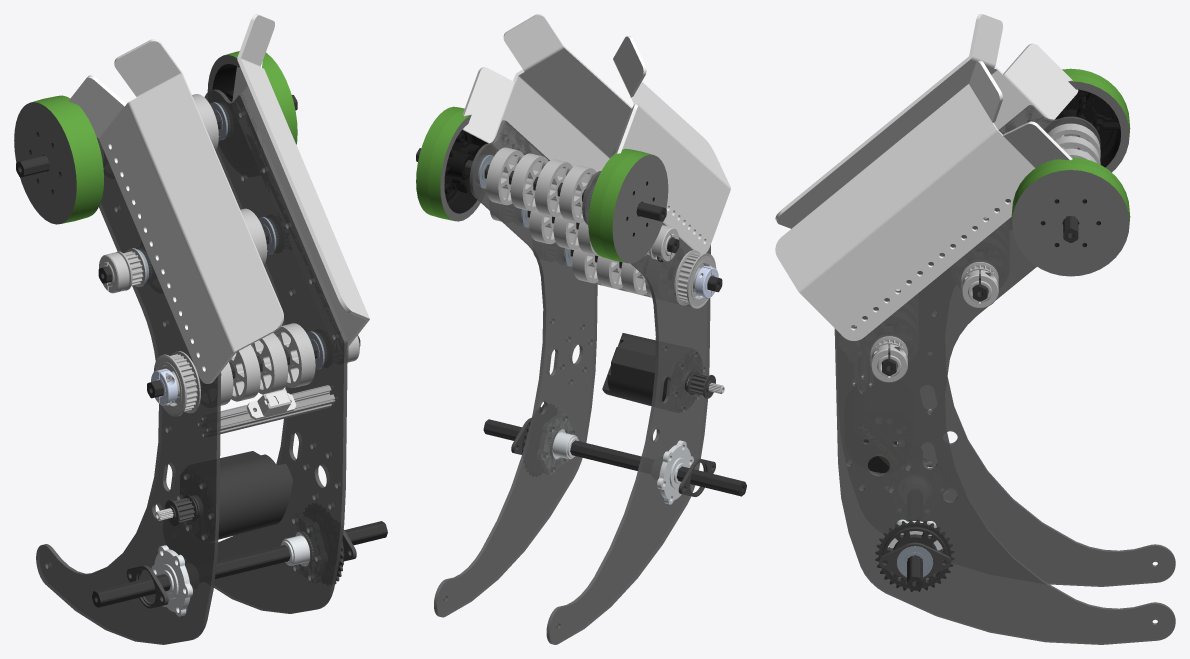
The picture shows the model from 3 angles, left to right: view 1: azimuth 30°, elevation 25°; view 2: azimuth 150°, elevation 25°; view 3: azimuth 270°, elevation 25°; orthographic projection. The views are drawn at different scales.
Parts seen in each view (by area): view 1: WCP intake (×2), WCP-CC2025-05-002, MirrorWCP-CC2025-05-002, 4" OD 1/2" Hex ID Stealth Wheel 35A (am-2647) (×2), Kraken X60 Brushless Motor, 2" OD 30A Straight Flex Wheel (217-6353) (×5), Shaft (×2), am-4124 500 Hex Hub (×2), REV 15mm Extrusion (Configurable), 30t 9mm Wide 1/2" Hex Bore Double Flange 5mm HTD Aluminum Pu, id115, am-1238a 500Hex Collar Clamp Body (+3 smaller); view 2: WCP intake (×2), MirrorWCP-CC2025-05-002, 4" OD 1/2" Hex ID Stealth Wheel 35A (am-2647) (×2), WCP-CC2025-05-002, 2" OD 30A Straight Flex Wheel (217-6353) (×9), Kraken X60 Brushless Motor, Shaft (×2), am-4124 500 Hex Hub (×2), 30t 9mm Wide 1/2" Hex Bore Double Flange 5mm HTD Aluminum Pu, am-1238a 500Hex Collar Clamp Body, Thrifty Bearing Retention Hat (TTB-0059), 12t 9mm Wide Falcon Bore Double Flange 5mm HTD Aluminum Pull; view 3: WCP intake (×2), MirrorWCP-CC2025-05-002, 4" OD 1/2" Hex ID Stealth Wheel 35A (am-2647) (×2), WCP-CC2025-05-002, am-1238a 500Hex Collar Clamp Body (×2), 32t Plate 25 Chain Sprocket (217-2690), 1/2" Hex Bore Aluminum Versahub (217-2592), Thrifty Bearing Retention Hat (TTB-0059), 2" OD 30A Straight Flex Wheel (217-6353), .5" Hex ID 1.125" OD Flanged Bearing (217-2734).
Part boxes in pixels (x1,y1,x2,y2): WCP intake (×2): [36, 89, 347, 644]; WCP-CC2025-05-002: [68, 39, 283, 383]; MirrorWCP-CC2025-05-002: [232, 14, 369, 350]; 4" OD 1/2" Hex ID Stealth Wheel 35A (am-2647) (×2): [14, 51, 297, 224]; Kraken X60 Brushless Motor: [155, 451, 292, 540]; 2" OD 30A Straight Flex Wheel (217-6353) (×5): [192, 94, 315, 401]; Shaft (×2): [16, 95, 387, 607]; am-4124 500 Hex Hub (×2): [151, 514, 322, 616]; REV 15mm Extrusion (Configurable): [202, 385, 335, 436]; 30t 9mm Wide 1/2" Hex Bore Double Flange 5mm HTD Aluminum Pu: [154, 351, 200, 416]; id115: [246, 389, 296, 419]; am-1238a 500Hex Collar Clamp Body: [99, 252, 129, 293]; WCP intake (×2): [434, 120, 710, 644]; MirrorWCP-CC2025-05-002: [462, 14, 631, 172]; 4" OD 1/2" Hex ID Stealth Wheel 35A (am-2647) (×2): [416, 106, 668, 263]; WCP-CC2025-05-002: [613, 36, 730, 254]; 2" OD 30A Straight Flex Wheel (217-6353) (×9): [486, 147, 647, 294]; Kraken X60 Brushless Motor: [602, 333, 724, 411]; Shaft (×2): [416, 148, 746, 496]; am-4124 500 Hex Hub (×2): [541, 412, 693, 504]; 30t 9mm Wide 1/2" Hex Bore Double Flange 5mm HTD Aluminum Pu: [674, 250, 716, 308]; am-1238a 500Hex Collar Clamp Body: [651, 225, 678, 261]; Thrifty Bearing Retention Hat (TTB-0059): [678, 458, 715, 496]; 12t 9mm Wide Falcon Bore Double Flange 5mm HTD Aluminum Pull: [687, 371, 715, 398]; WCP intake (×2): [834, 105, 1175, 644]; MirrorWCP-CC2025-05-002: [775, 60, 1072, 340]; 4" OD 1/2" Hex ID Stealth Wheel 35A (am-2647) (×2): [1011, 68, 1130, 276]; WCP-CC2025-05-002: [775, 14, 1078, 228]; am-1238a 500Hex Collar Clamp Body (×2): [870, 270, 998, 382]; 32t Plate 25 Chain Sprocket (217-2690): [875, 519, 954, 591]; 1/2" Hex Bore Aluminum Versahub (217-2592): [882, 527, 947, 586]; Thrifty Bearing Retention Hat (TTB-0059): [879, 542, 951, 579]; 2" OD 30A Straight Flex Wheel (217-6353): [1048, 123, 1100, 158]; .5" Hex ID 1.125" OD Flanged Bearing (217-2734): [897, 546, 933, 577].
Size of the model in its own units: 0.2667 by 0.5454 by 0.3427.
